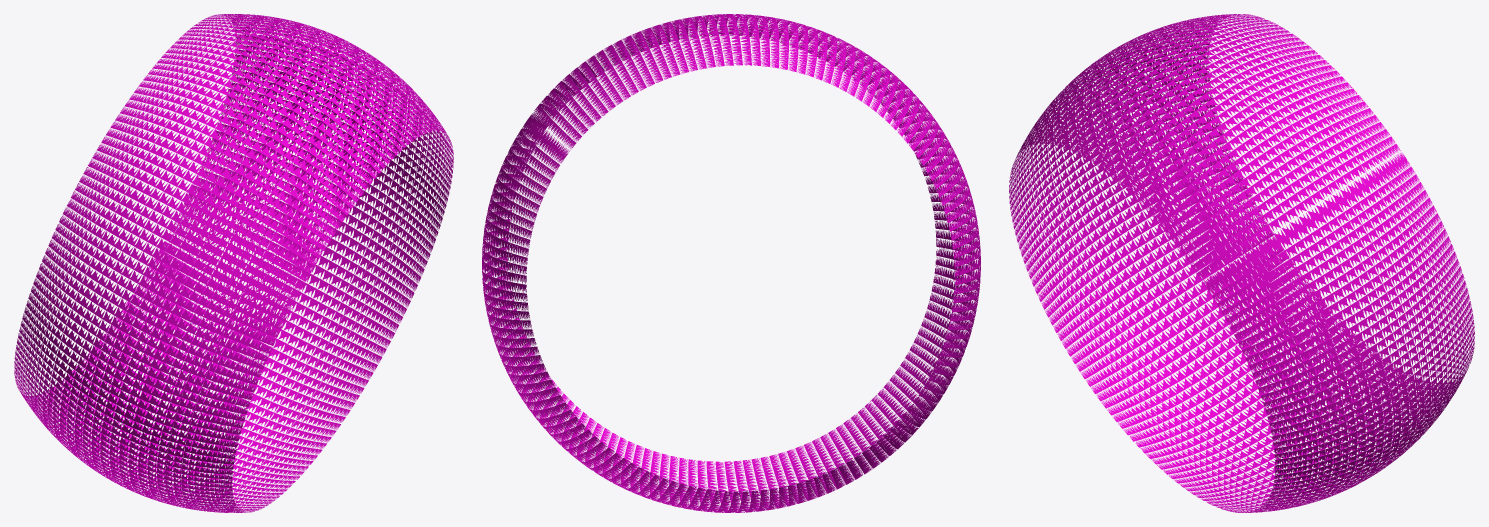
Rendered from torrus4.glb.
The picture shows the model from 3 angles, left to right: view 1: azimuth 30°, elevation 25°; view 2: azimuth 150°, elevation 25°; view 3: azimuth 270°, elevation 25°; orthographic projection.
Parts seen in each view (by area): view 1: Torus.002; view 2: Torus.002; view 3: Torus.002.
Boxes of the visible parts, x1,y1,x2,y2 form: Torus.002: (14,14,453,512); Torus.002: (482,14,980,512); Torus.002: (1009,14,1474,512).
Size of the model in its own units: 0.7332 by 0.7335 by 0.6848.
